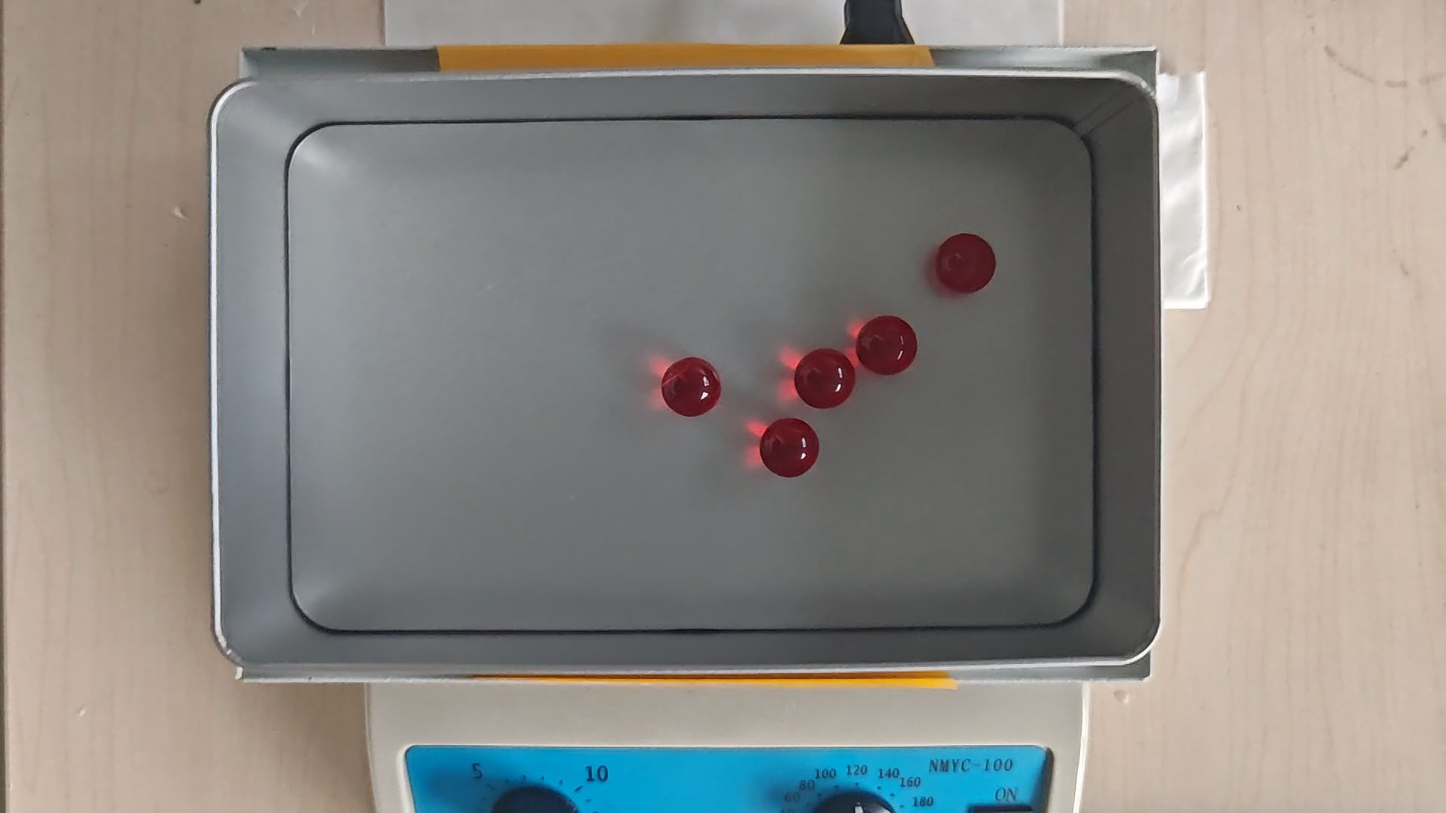ball: (758, 416, 819, 479), (795, 349, 855, 410), (858, 315, 917, 377), (936, 233, 996, 292), (664, 357, 721, 416)
container: (285, 114, 1096, 629)
